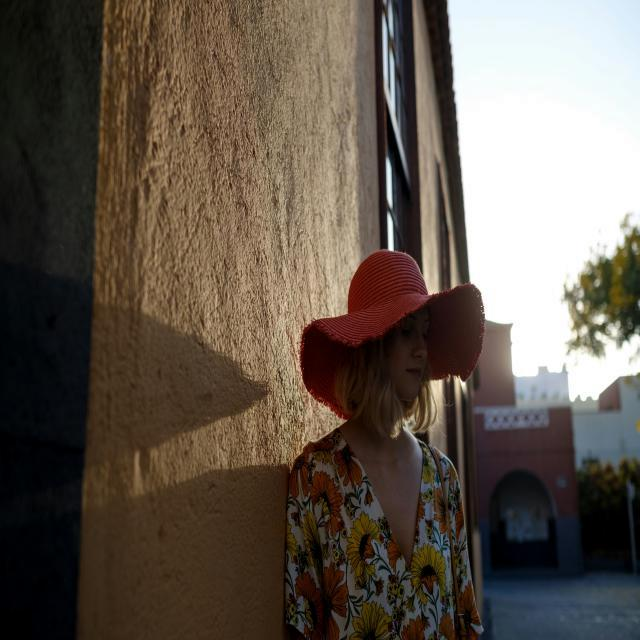no_hard_hat: (300, 250, 485, 420)
person: (284, 250, 484, 640)
